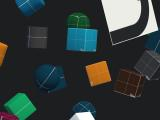Left: (102, 0, 158, 45)
